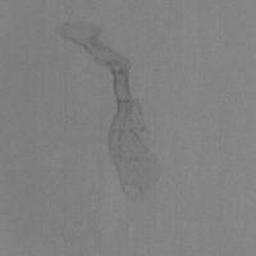Water spot: (58, 18, 170, 207)
